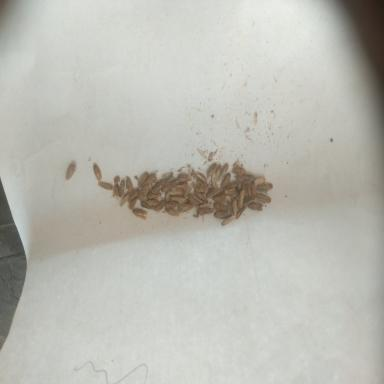pbw: (196, 207, 213, 222), (194, 188, 208, 204), (90, 162, 102, 180), (66, 161, 78, 179), (131, 206, 147, 219), (206, 160, 218, 177), (166, 206, 180, 220), (144, 173, 158, 186), (213, 202, 229, 213), (220, 173, 231, 189), (146, 187, 162, 198), (170, 185, 186, 196), (118, 179, 127, 198), (177, 204, 194, 214), (186, 163, 196, 180), (206, 187, 221, 198), (221, 214, 236, 225), (219, 164, 229, 180), (127, 198, 137, 214), (155, 198, 167, 211), (119, 192, 130, 206), (237, 188, 244, 210), (162, 173, 173, 187), (213, 210, 232, 218), (256, 194, 271, 204), (258, 182, 274, 191), (152, 180, 164, 192), (193, 184, 206, 195), (141, 199, 155, 209), (232, 166, 246, 176), (182, 184, 192, 198), (188, 195, 198, 209), (235, 174, 242, 194), (124, 174, 132, 191), (235, 205, 245, 218), (147, 196, 160, 206), (98, 180, 112, 189), (129, 188, 138, 202), (137, 186, 146, 200), (139, 172, 148, 186), (248, 202, 262, 211), (164, 180, 176, 190), (242, 173, 257, 181), (242, 181, 248, 201), (223, 182, 236, 191), (224, 188, 238, 196), (174, 180, 188, 188), (176, 174, 192, 181), (212, 195, 228, 202), (198, 170, 206, 184), (167, 197, 178, 206), (239, 180, 246, 194), (113, 183, 119, 198), (232, 197, 237, 215), (252, 182, 258, 197), (170, 196, 185, 202), (226, 201, 234, 212), (194, 179, 206, 186), (254, 178, 267, 184), (246, 183, 251, 198), (244, 196, 253, 204), (216, 164, 222, 176), (164, 190, 170, 201), (212, 178, 217, 190), (198, 204, 212, 208)
